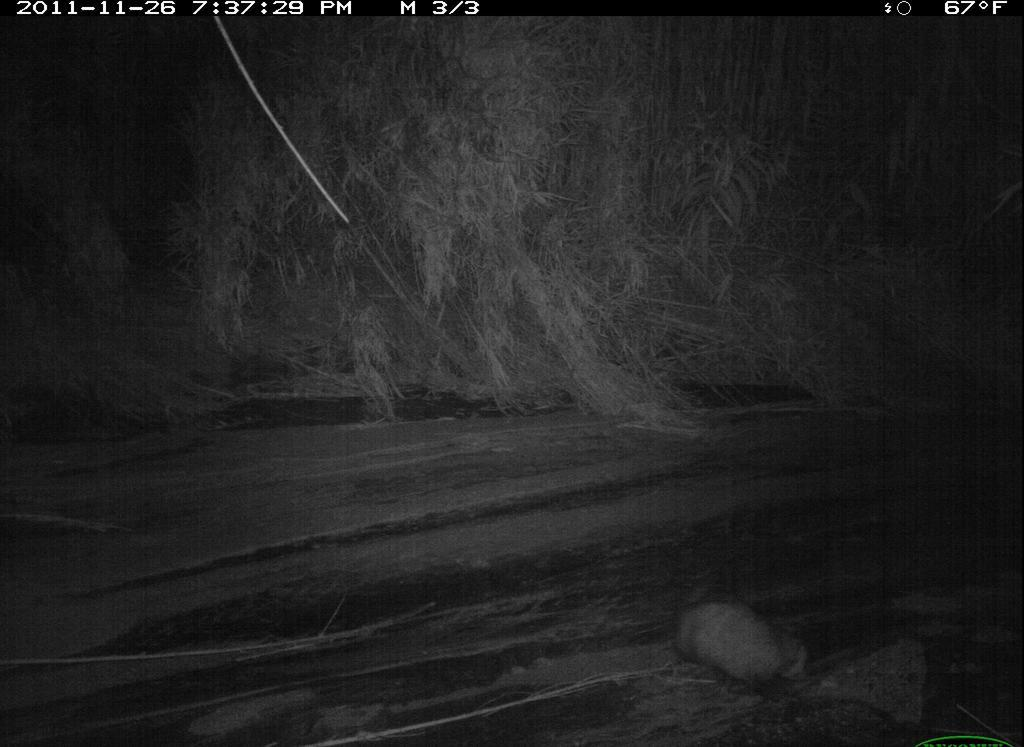opossum: (643, 587, 812, 693)
